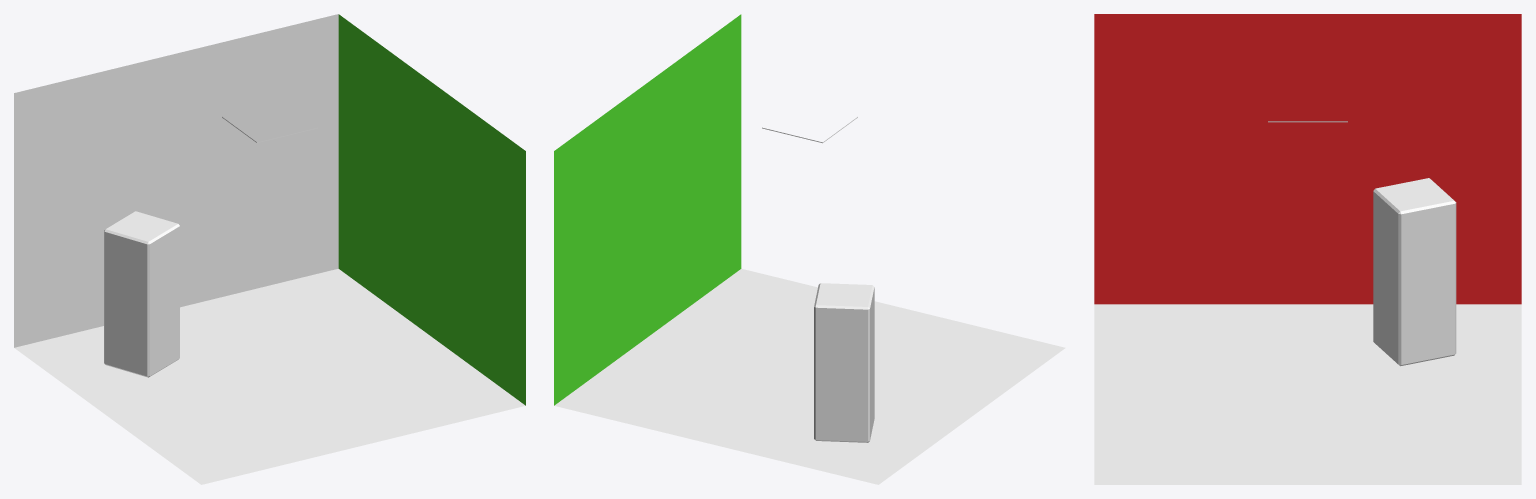
The model's file is cornellBox2.glb.
3 views of the same model, side by side, from view 1: azimuth 30°, elevation 25°; view 2: azimuth 150°, elevation 25°; view 3: azimuth 270°, elevation 25° (orthographic). The views are drawn at different scales.
Parts seen in each view (by area): view 1: cornellBox.000, bloc.000; view 2: cornellBox.000, bloc.000; view 3: cornellBox.000, bloc.000.
Boxes of the visible parts, left/top/right/bottom form: cornellBox.000: left=14, top=14, right=525, bottom=484; bloc.000: left=104, top=211, right=179, bottom=377; cornellBox.000: left=554, top=14, right=1065, bottom=484; bloc.000: left=814, top=283, right=874, bottom=442; cornellBox.000: left=1094, top=14, right=1521, bottom=484; bloc.000: left=1373, top=178, right=1456, bottom=366.
Bounding box in the file's own units: 4 × 3 × 4.
